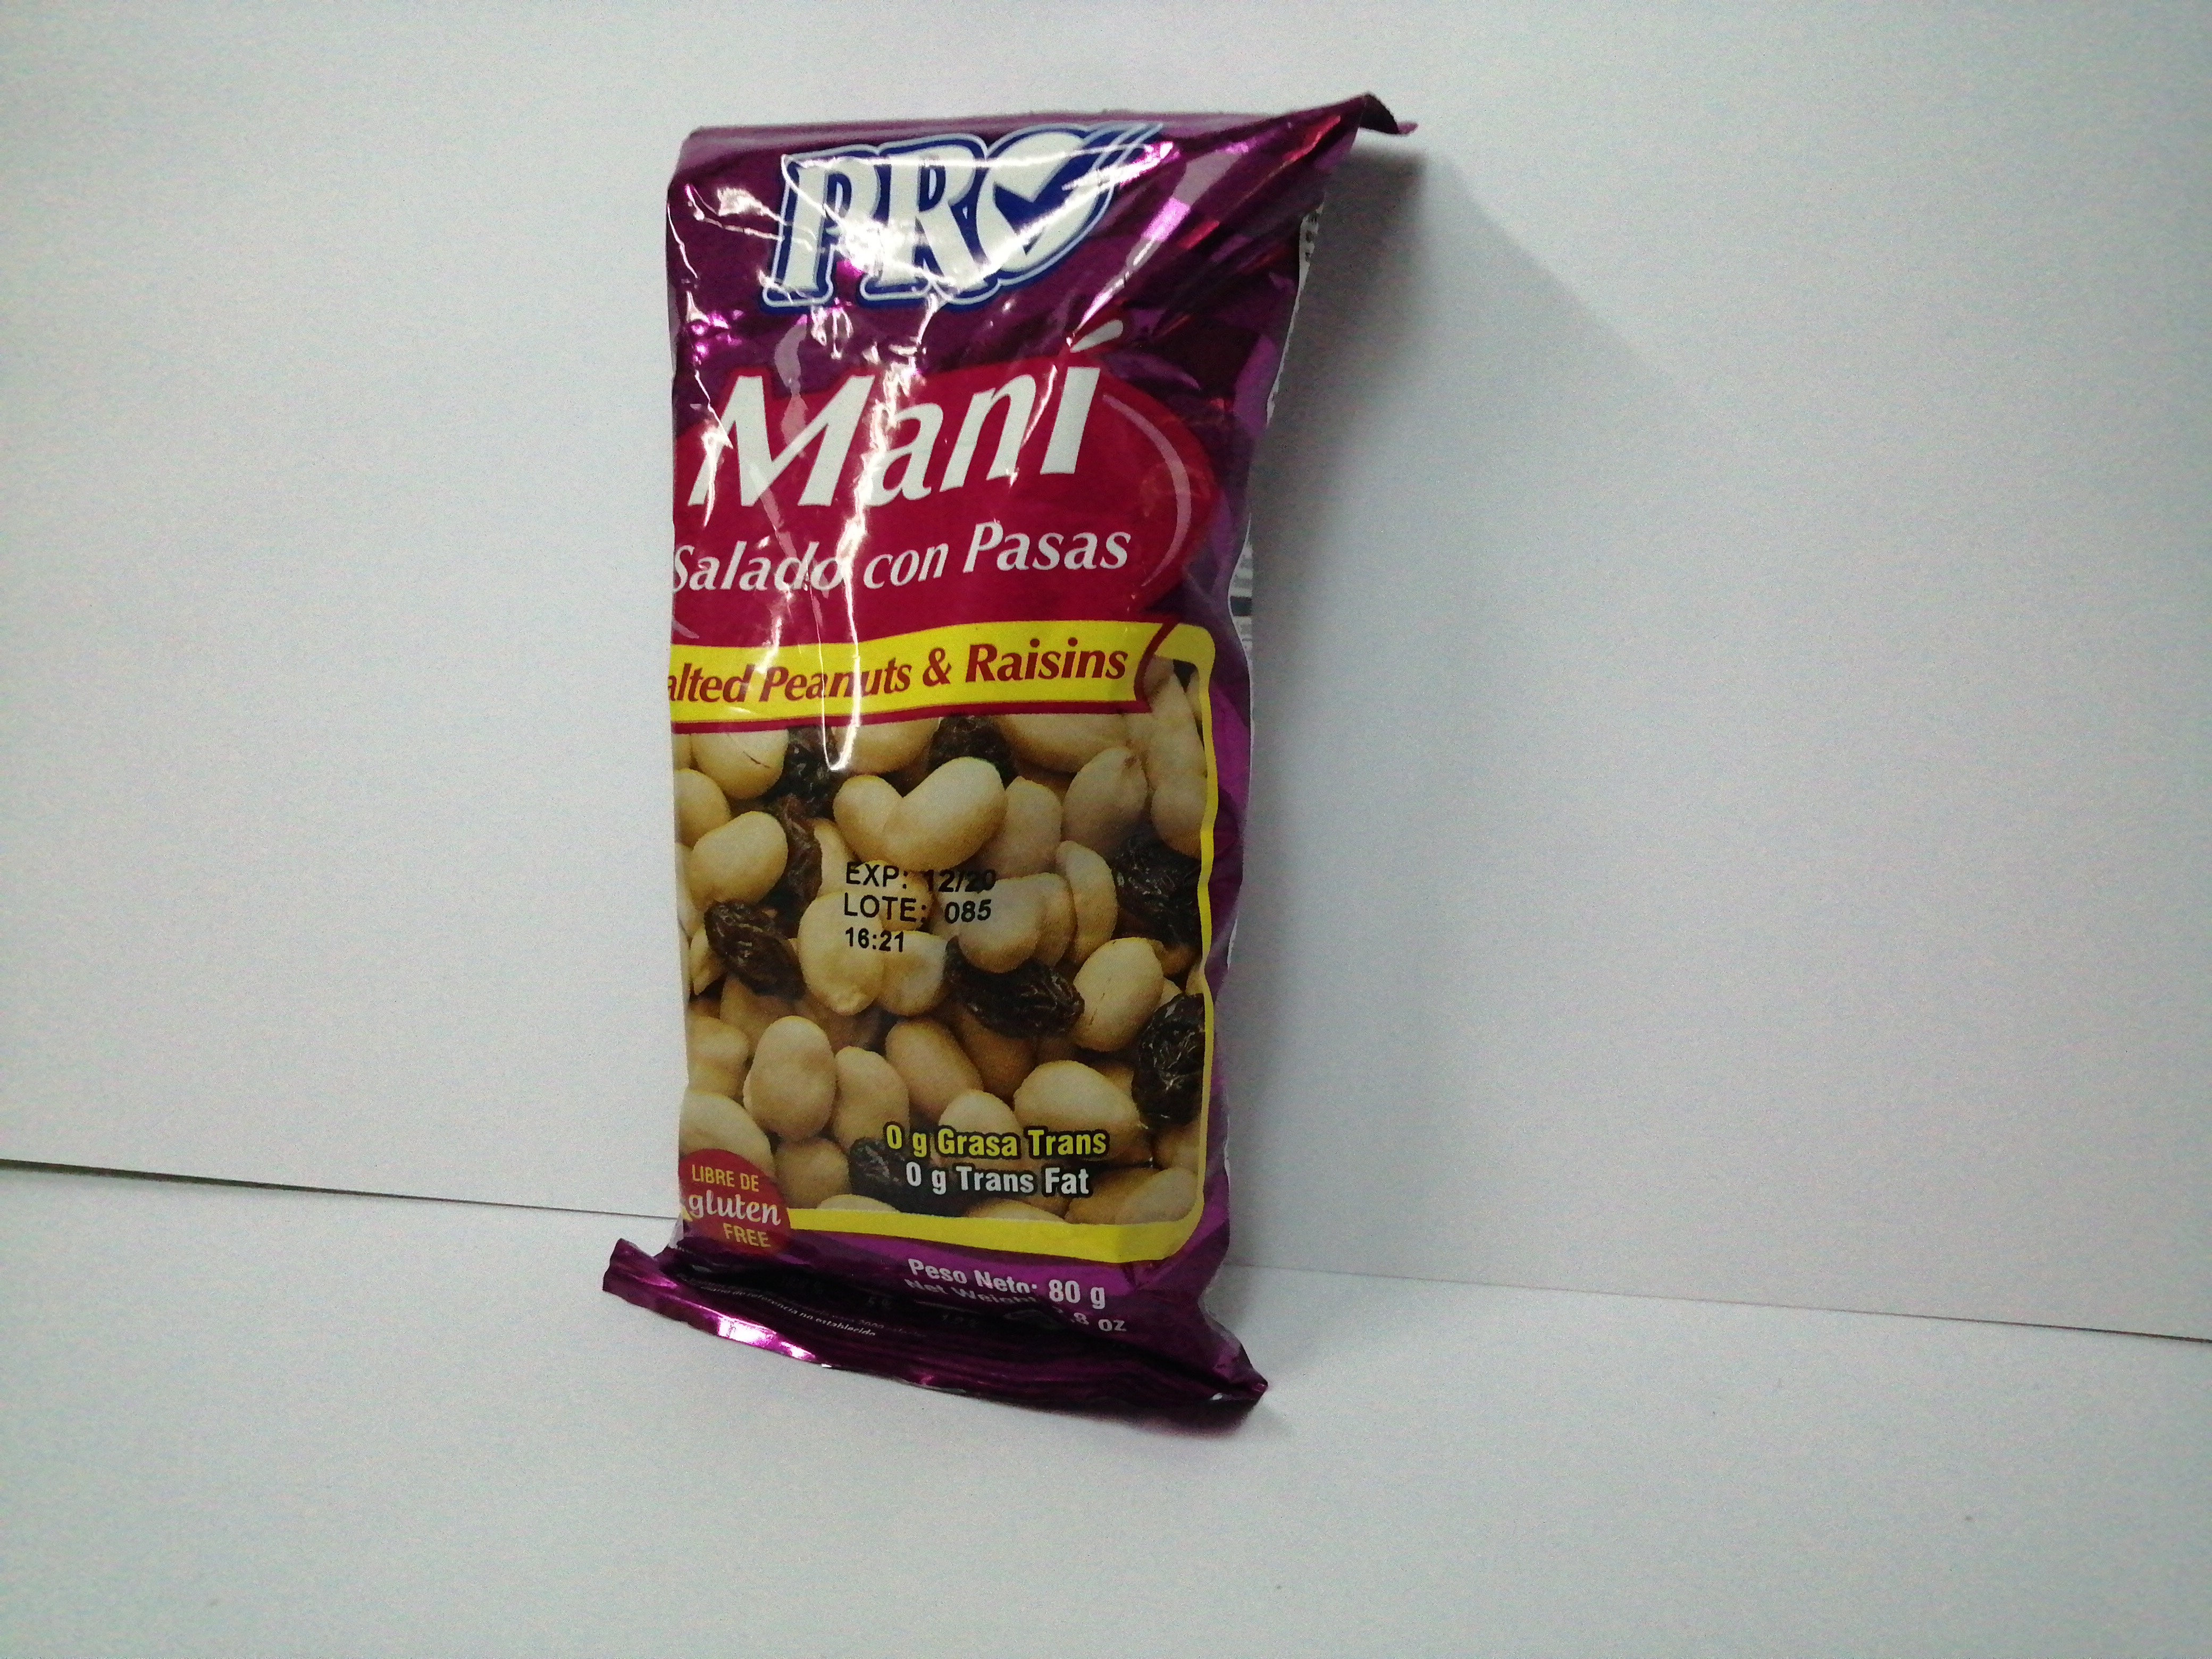mani: (611, 92, 1369, 1412)
